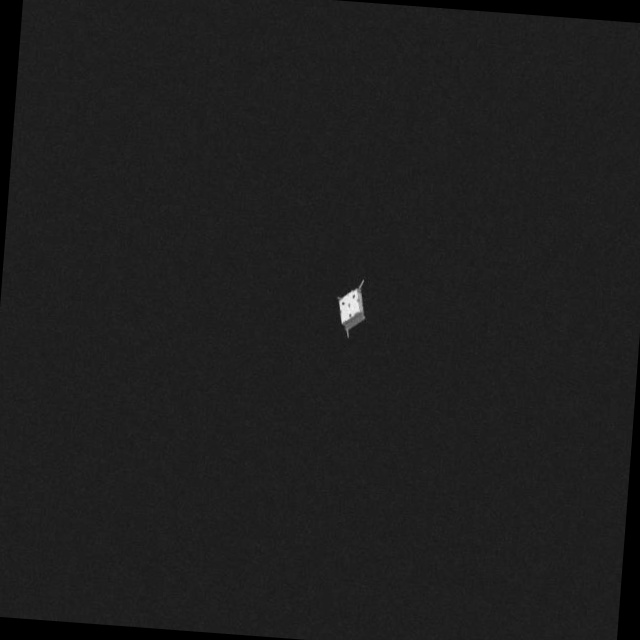medium_debris: (329, 273, 375, 342)
